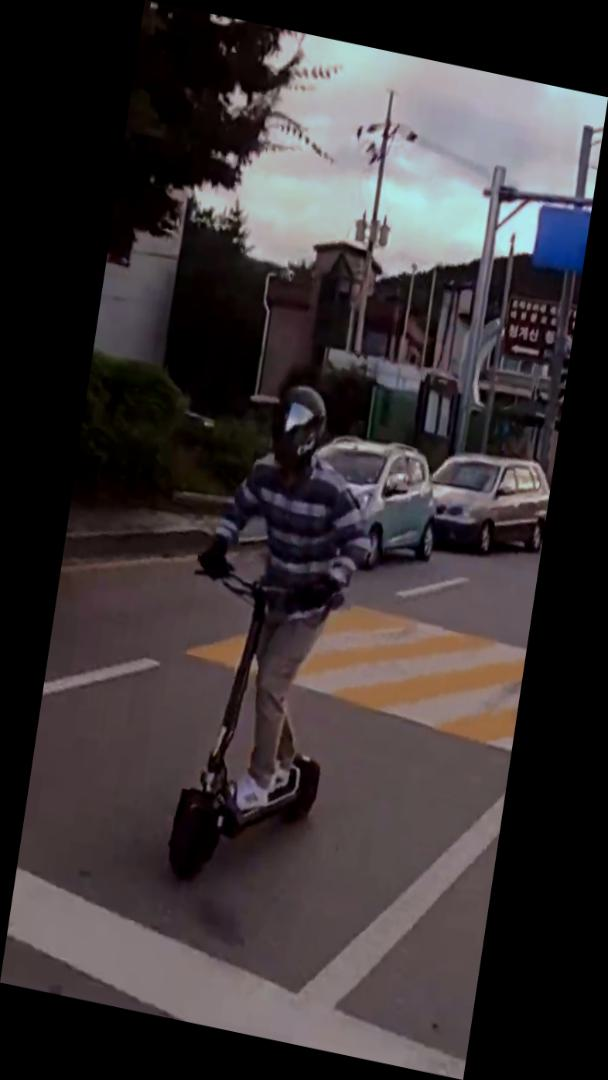helmet: (146, 365, 394, 913)
